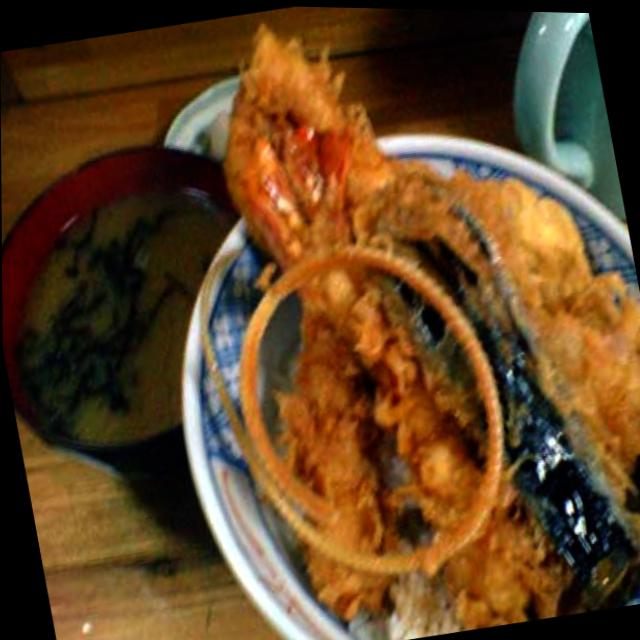汤锅炖物: (1, 132, 283, 468)
熟制海鲜: (120, 65, 640, 640)
